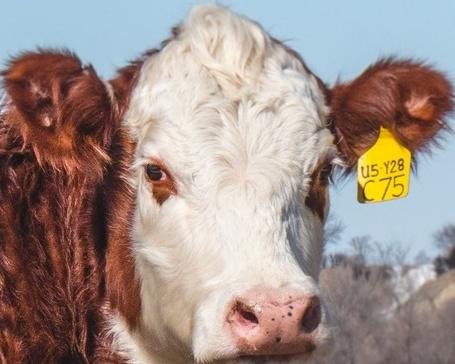muzzles: (198, 283, 331, 364)
